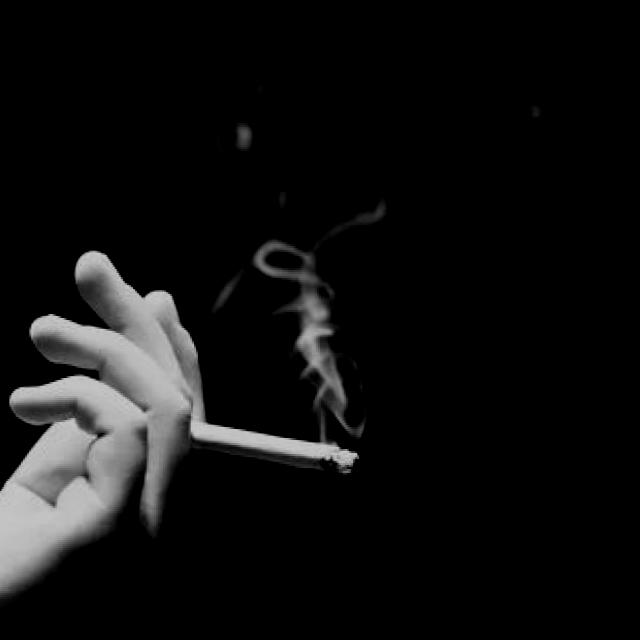cigarette: (181, 412, 366, 478)
